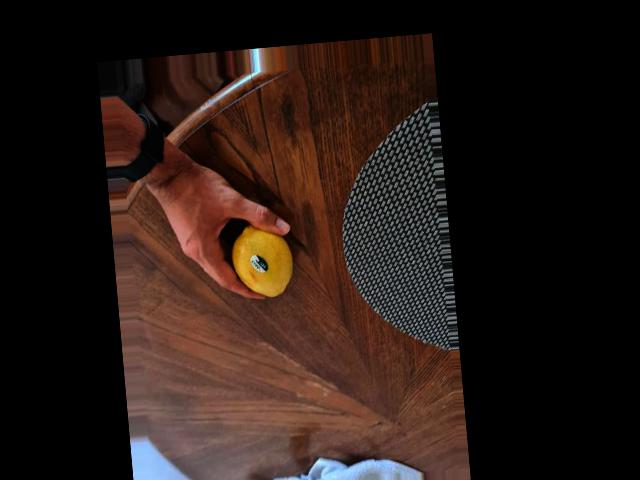lemon: (228, 219, 294, 299)
